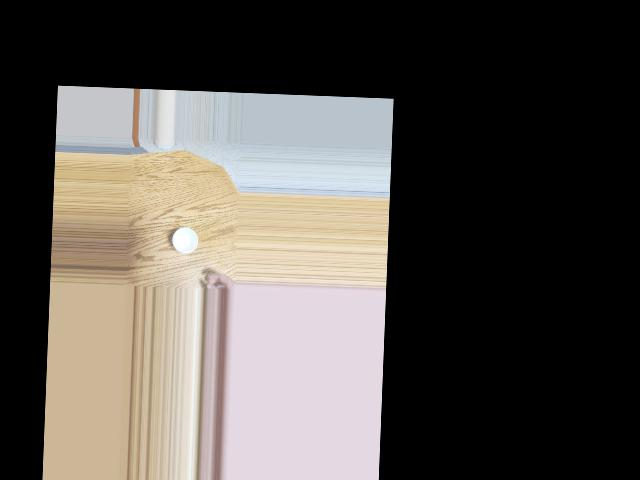cotage: (171, 224, 201, 255)
